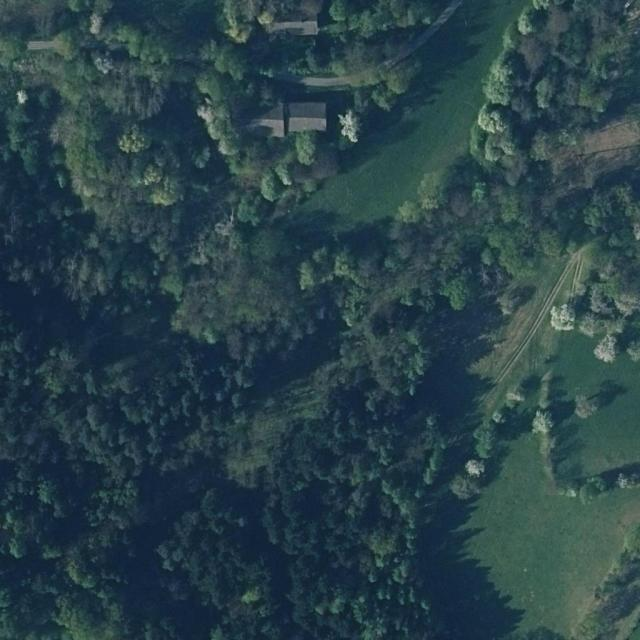building: (247, 98, 330, 141), (288, 102, 326, 132)
greenland: (307, 33, 429, 154), (305, 0, 441, 76), (244, 123, 347, 222)
metalled_road: (266, 20, 319, 36), (300, 76, 350, 87)
